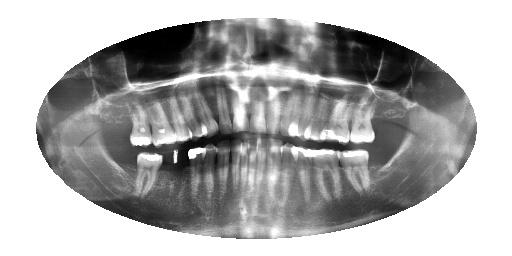i10decay: (231, 139, 241, 194)
i11decay: (215, 142, 231, 201)
i12decay: (202, 146, 217, 206)
i13healthy: (186, 148, 207, 208)
i14loss: (163, 154, 190, 202)
i15healthy: (133, 151, 162, 202)
i16loss: (116, 154, 135, 185)
i1loss: (368, 150, 393, 178)
i2healthy: (340, 148, 369, 197)
i3healthy: (316, 148, 340, 205)
i4healthy: (290, 147, 318, 209)
i5healthy: (279, 142, 296, 207)
i6healthy: (266, 137, 283, 213)
i7healthy: (256, 137, 269, 207)
i8healthy: (248, 136, 258, 205)
i9healthy: (242, 138, 250, 203)
u1: (373, 107, 396, 141)
u10: (214, 80, 231, 135)
u11: (200, 81, 220, 138)
u12: (189, 83, 207, 141)
u13: (168, 91, 192, 145)
u14: (150, 100, 179, 146)
u15: (126, 104, 152, 148)
u16: (105, 111, 125, 137)
u2: (349, 97, 377, 143)
u3: (327, 96, 353, 145)
u4: (312, 92, 330, 145)
u5: (298, 89, 310, 141)
u6: (281, 87, 299, 137)
u7: (266, 85, 280, 133)
u8: (248, 83, 268, 133)
u9: (229, 80, 251, 133)
